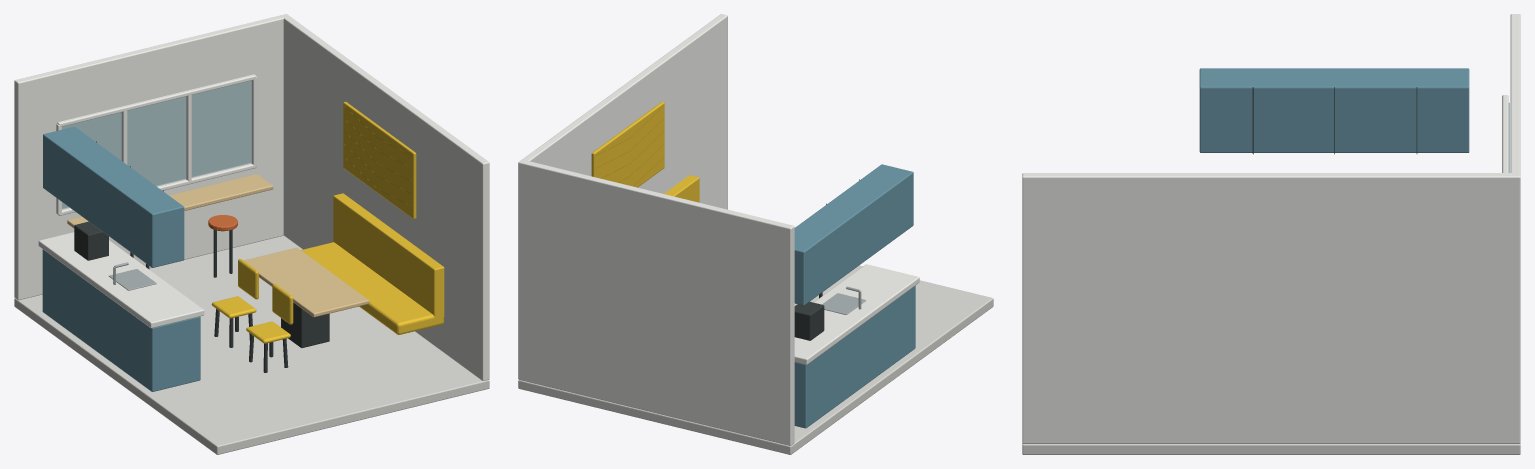
Rendered from con-tea-point-interior-57d83aa2bafb.glb.
The picture shows the model from 3 angles, left to right: view 1: azimuth 30°, elevation 25°; view 2: azimuth 150°, elevation 25°; view 3: azimuth 270°, elevation 25°; orthographic projection. The views are drawn at different scales.
Parts seen in each view (by area): view 1: con-tea-point; view 2: con-tea-point; view 3: con-tea-point.
Part boxes in pixels (x1=…): con-tea-point: x1=14, y1=14, x2=489, y2=454; con-tea-point: x1=518, y1=14, x2=993, y2=454; con-tea-point: x1=1022, y1=14, x2=1520, y2=454.
Bounding box in the file's own units: 3.8 × 3.02 × 4.9.
